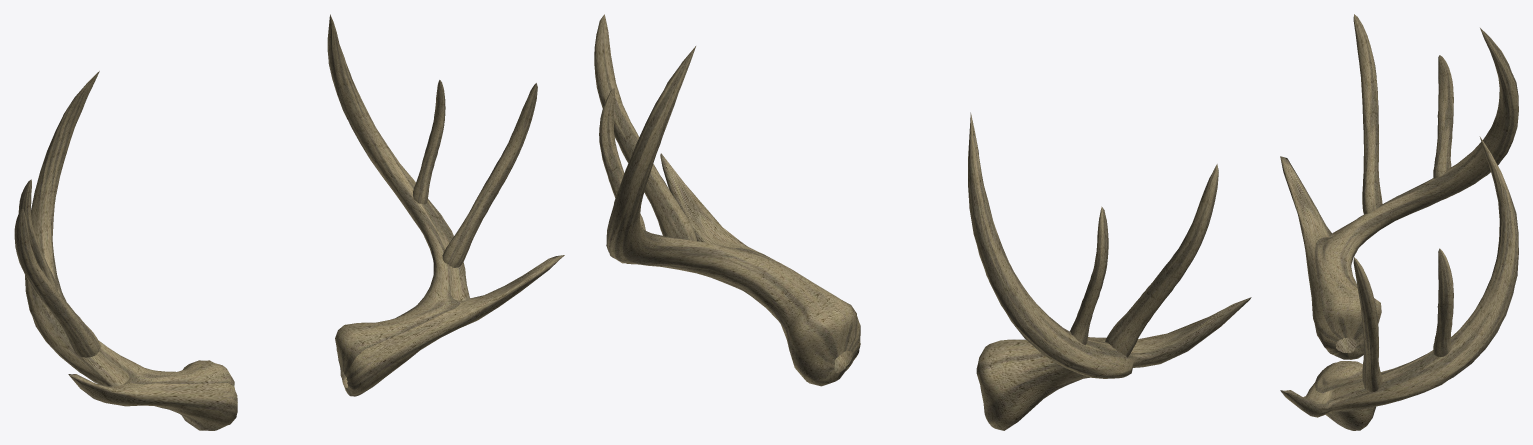
The model's file is deerantlers.glb.
3 renders of one model, left to right at view 1: azimuth 30°, elevation 25°; view 2: azimuth 150°, elevation 25°; view 3: azimuth 270°, elevation 25°, orthographic. The views are drawn at different scales.
Visible parts, largest first — view 1: deerantlers; view 2: deerantlers; view 3: deerantlers.
Part boxes in pixels (bbox=[...]): deerantlers: bbox=[14, 14, 564, 430]; deerantlers: bbox=[594, 14, 1251, 430]; deerantlers: bbox=[1280, 14, 1518, 430].
Bounding box in the file's own units: 0.4443 × 0.2632 × 0.1823.
1 material, 1 textured.
